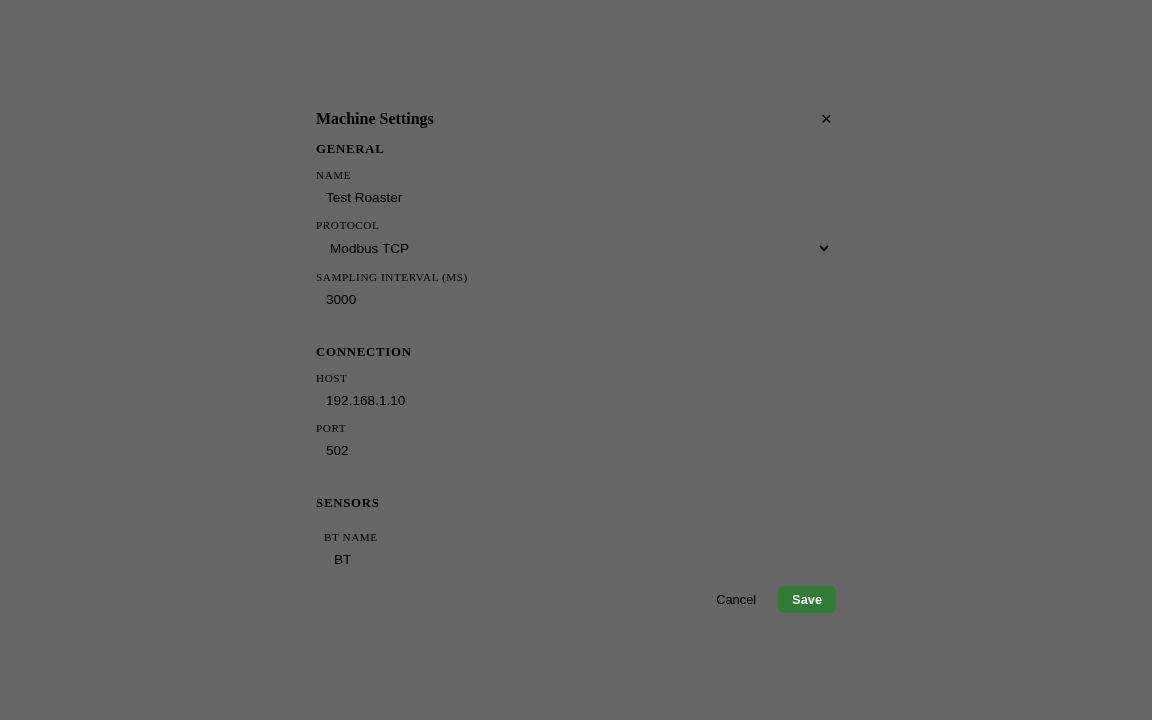
it: MachineSettingsPanel › shows error when save fails
Expected: the field showing "Test Roaster" is shown, [316,184,832,210]
Step 1. Click the button "Save" → (807, 599), box [778,586,836,612]
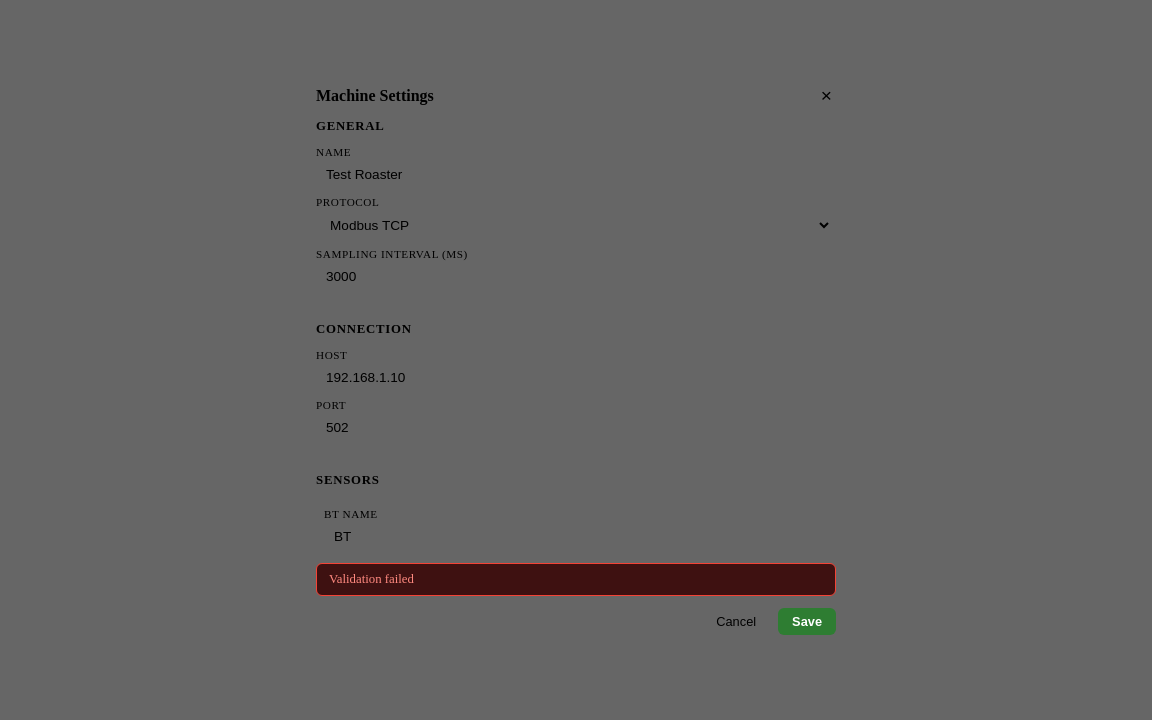
Expected: the text "Validation failed" is shown, [316,563,836,596]
